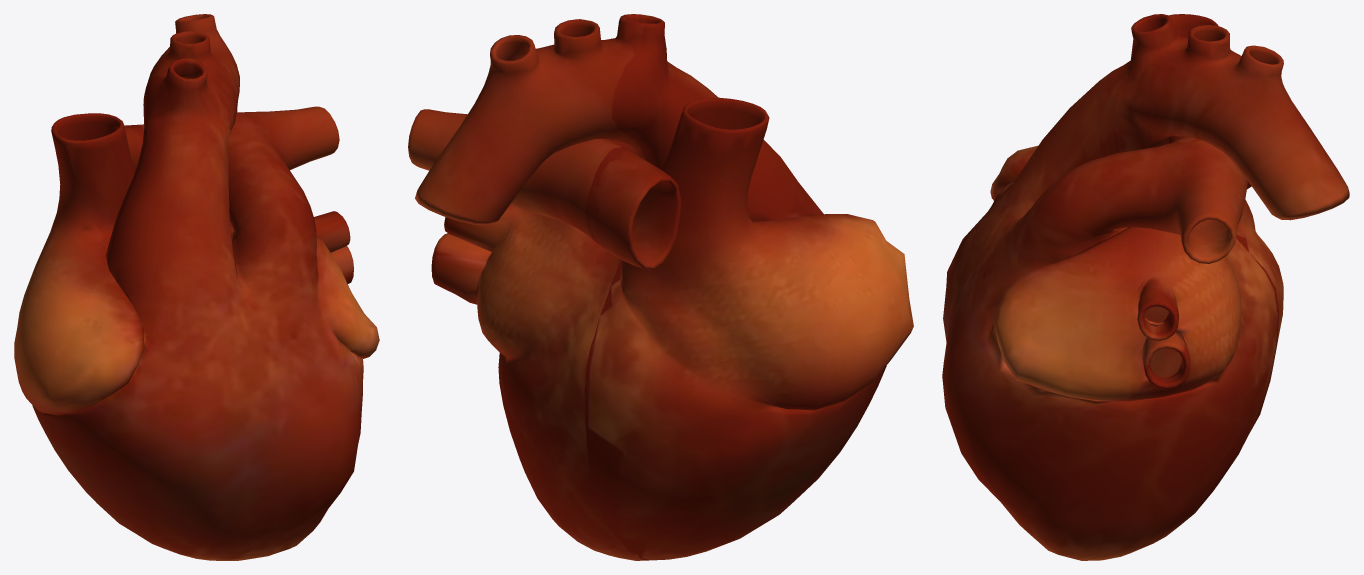
The model's file is x_organos_human_heart.glb.
The picture shows the model from 3 angles, left to right: view 1: azimuth 30°, elevation 25°; view 2: azimuth 150°, elevation 25°; view 3: azimuth 270°, elevation 25°; orthographic projection. The views are drawn at different scales.
Visible parts, largest first — view 1: Object_2; view 2: Object_2; view 3: Object_2.
Boxes of the visible parts, x1,y1,x2,y2 form: Object_2: (14,14,379,560); Object_2: (408,14,913,560); Object_2: (942,14,1349,560).
Bounding box in the file's own units: 0.0992 × 0.13 × 0.0918.
1 material, 1 textured.
